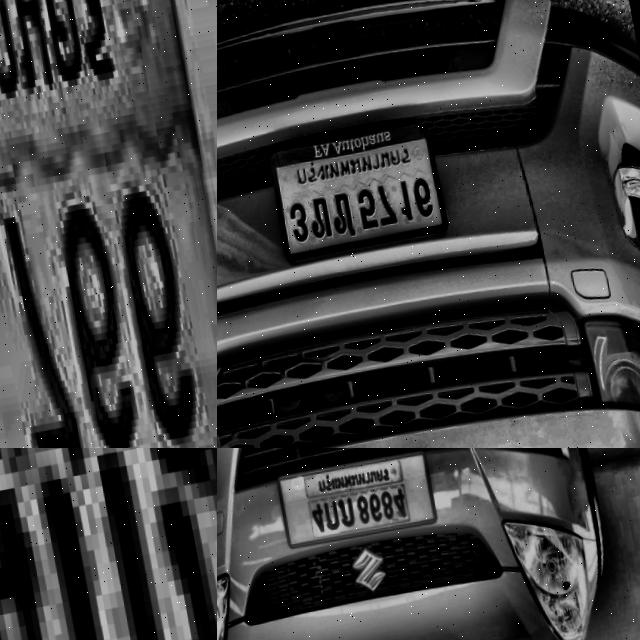license-plate: (0, 0, 217, 448), (0, 448, 217, 640), (262, 124, 447, 271), (271, 451, 436, 557)
